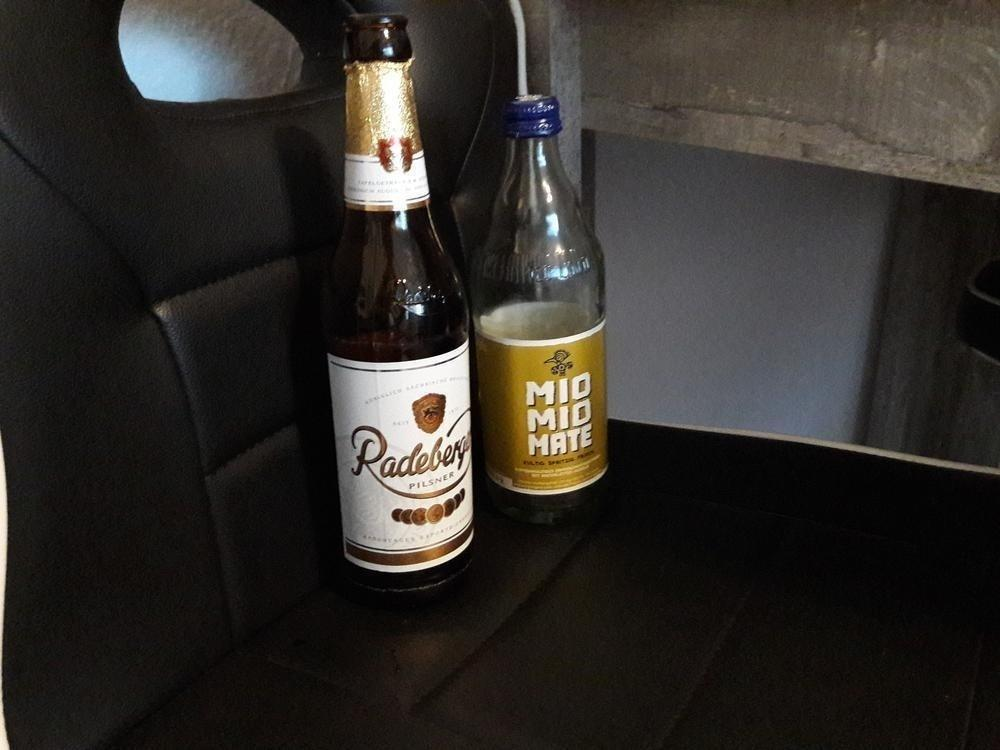bottle-glass: (317, 10, 476, 595), (458, 87, 618, 532)
